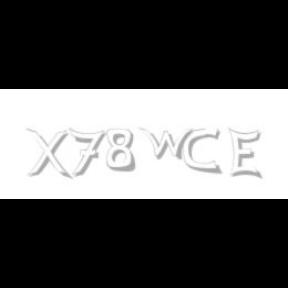7: (70, 128, 106, 178)
8: (106, 128, 136, 172)
C: (183, 128, 220, 174)
E: (228, 128, 262, 180)
X: (26, 128, 70, 180)
w: (138, 128, 198, 160)
